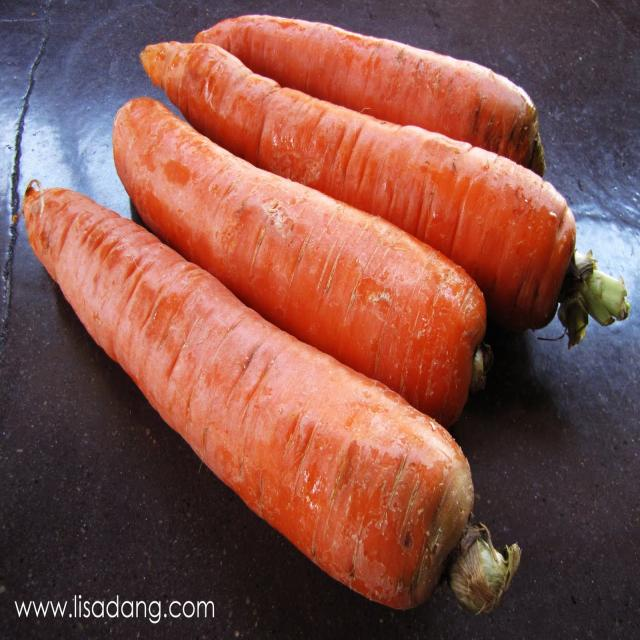Carrot: (22, 179, 520, 623), (131, 34, 630, 336), (109, 90, 486, 411), (198, 11, 548, 161)
